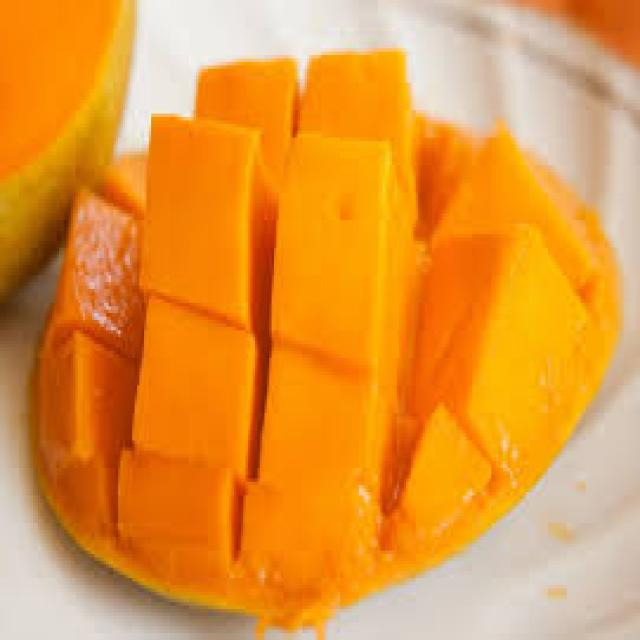mango: (25, 35, 633, 607)
